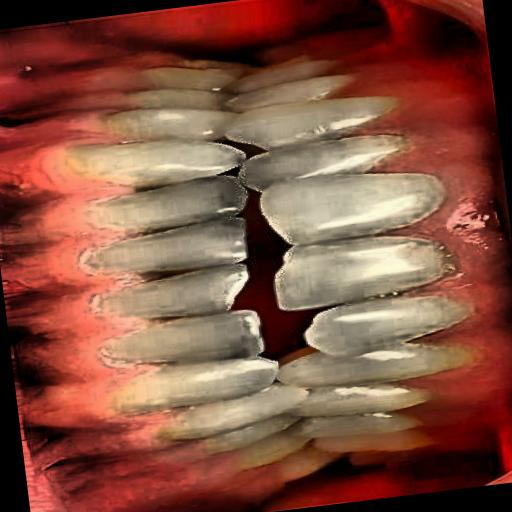Healthy: (65, 84, 466, 487)
